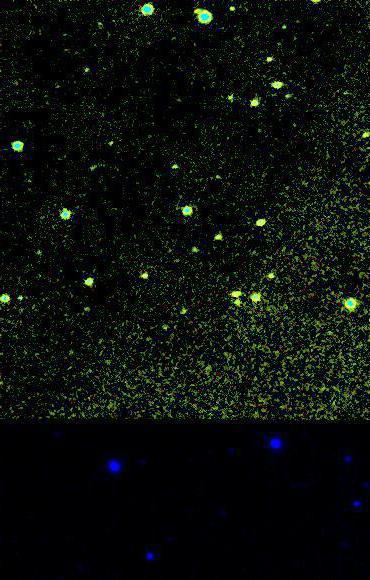star: (257, 45, 287, 75)
